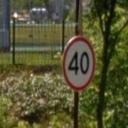speed_limit_40: (62, 36, 95, 91)
